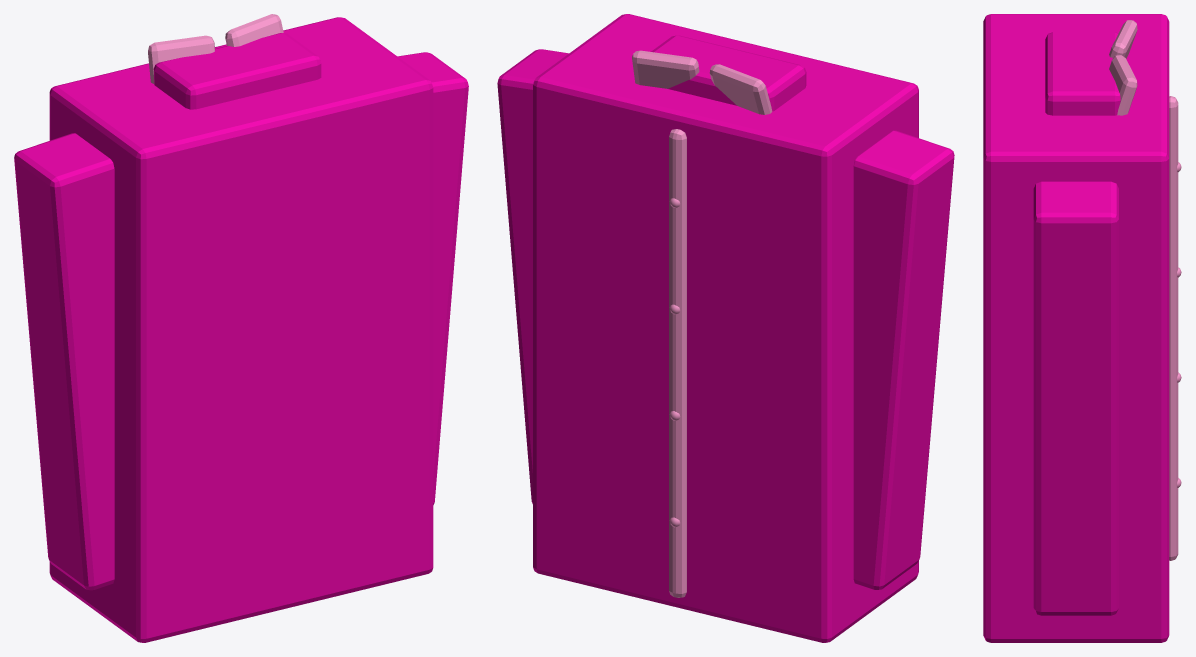
Rendered from VM-CAB-8850.glb.
The picture shows the model from 3 angles, left to right: view 1: azimuth 30°, elevation 25°; view 2: azimuth 150°, elevation 25°; view 3: azimuth 270°, elevation 25°; orthographic projection.
Visible parts, largest first — view 1: Camisa Oxford Cuello Mao; view 2: Camisa Oxford Cuello Mao; view 3: Camisa Oxford Cuello Mao.
Part boxes in pixels (box(x1,y1,x2,y2)): Camisa Oxford Cuello Mao: box(14, 14, 468, 642); Camisa Oxford Cuello Mao: box(497, 14, 954, 642); Camisa Oxford Cuello Mao: box(983, 14, 1181, 642).
Bounding box in the file's own units: 0.6437 × 0.7766 × 0.2657.
